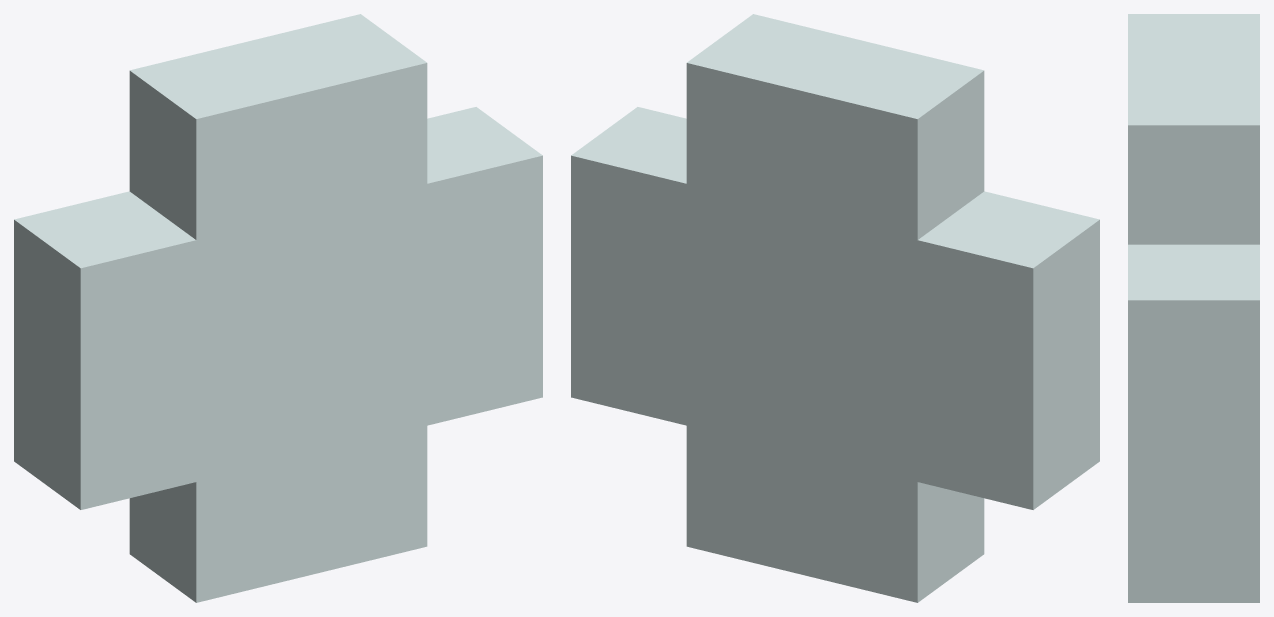
Rendered from Medieval Assets-189-Graveyard - Grave Crypt - Highlight.obj.
3 renders of one model, left to right at view 1: azimuth 30°, elevation 25°; view 2: azimuth 150°, elevation 25°; view 3: azimuth 270°, elevation 25°, orthographic.
Visible parts, largest first — view 1: Graveyard - Grave Crypt - Highlight; view 2: Graveyard - Grave Crypt - Highlight; view 3: Graveyard - Grave Crypt - Highlight.
Boxes of the visible parts, box(x1,y1,x2,y2) form: Graveyard - Grave Crypt - Highlight: box(14, 14, 542, 602); Graveyard - Grave Crypt - Highlight: box(571, 14, 1099, 602); Graveyard - Grave Crypt - Highlight: box(1128, 14, 1259, 602).
Size of the model in its own units: 0.4 by 0.4 by 0.1.
1 material, 1 textured.
